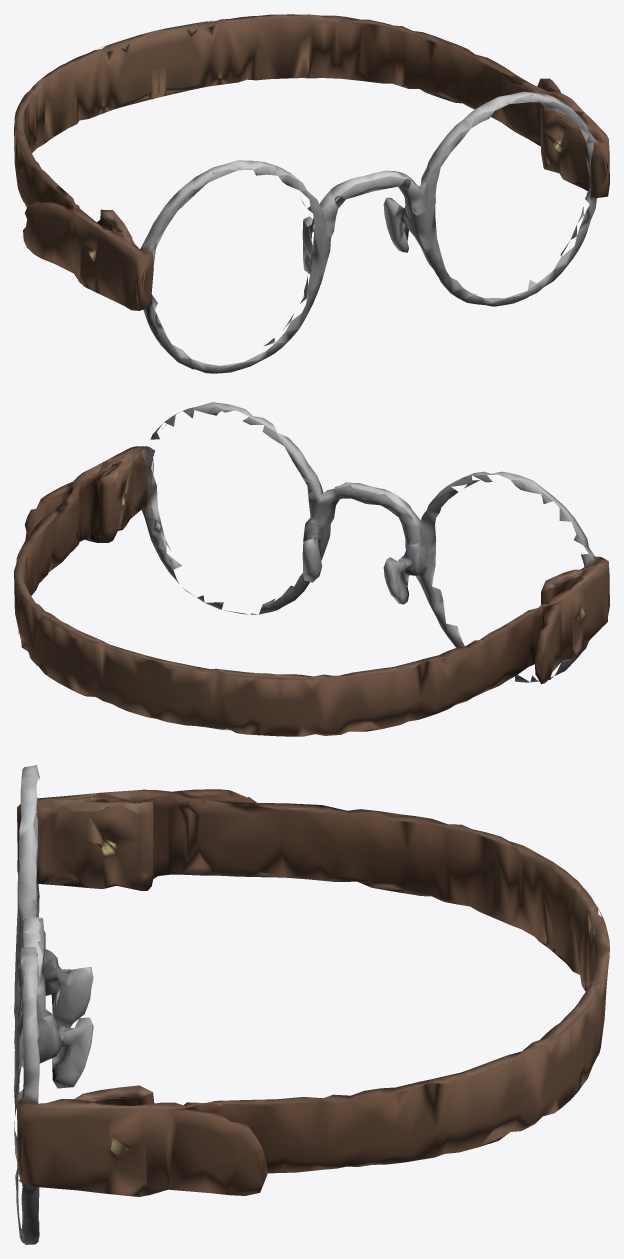
Rendered from head_accessory__0_069-optimized.glb.
The picture shows the model from 3 angles, top to bottom: view 1: azimuth 30°, elevation 25°; view 2: azimuth 150°, elevation 25°; view 3: azimuth 270°, elevation 25°; orthographic projection. The views are drawn at different scales.
Visible parts, largest first — view 1: geometry_0_069; view 2: geometry_0_069; view 3: geometry_0_069.
Boxes of the visible parts, x1,y1,x2,y2 form: geometry_0_069: (14,14,609,373); geometry_0_069: (14,402,609,736); geometry_0_069: (14,765,609,1244).
Bounding box in the file's own units: 0.779 × 0.2971 × 0.582.
Materials: 1 (1 with a texture image).
